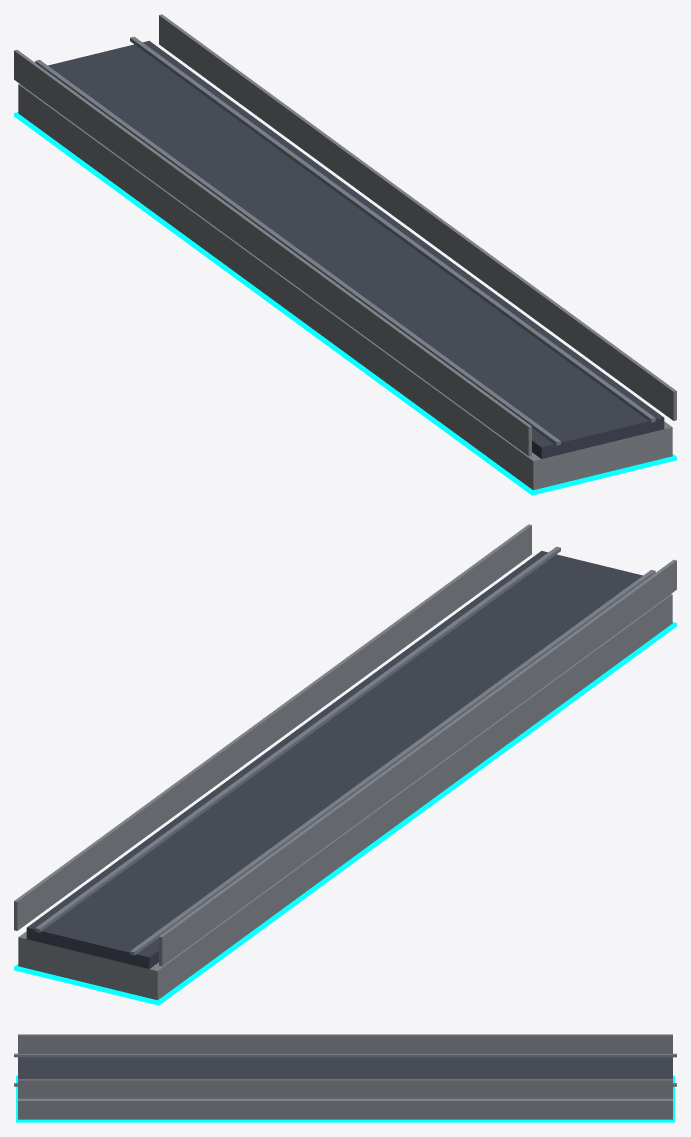
Rendered from ELEV_Monorail_Track_Straight.glb.
3 renders of one model, top to bottom at view 1: azimuth 30°, elevation 25°; view 2: azimuth 150°, elevation 25°; view 3: azimuth 270°, elevation 25°, orthographic. The views are drawn at different scales.
Parts seen in each view (by area): view 1: ELEV_Monorail_Track_Straight; view 2: ELEV_Monorail_Track_Straight; view 3: ELEV_Monorail_Track_Straight.
Part boxes in pixels (bbox=[...]): ELEV_Monorail_Track_Straight: bbox=[14, 14, 676, 495]; ELEV_Monorail_Track_Straight: bbox=[14, 524, 676, 1005]; ELEV_Monorail_Track_Straight: bbox=[14, 1034, 676, 1122].
Size of the model in its own units: 2.66 by 1.16 by 16.2.
